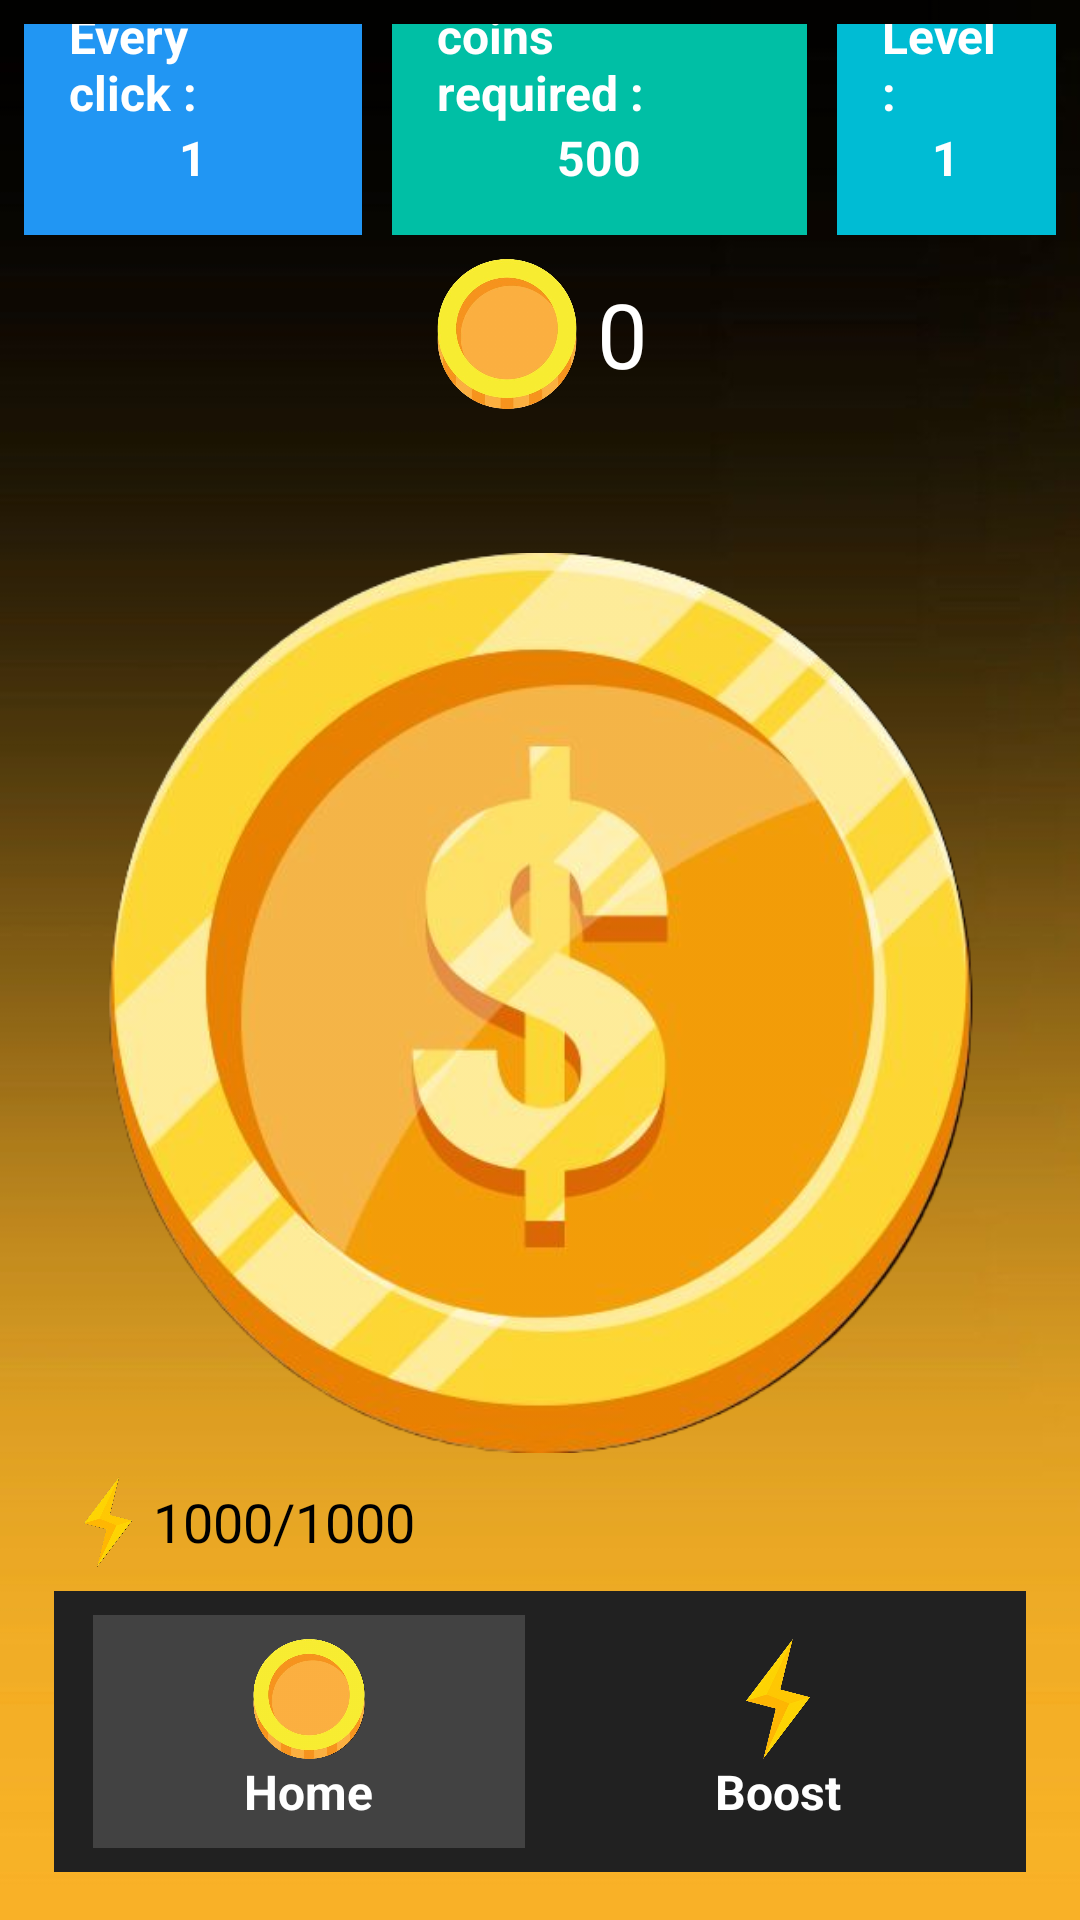

Icons on this 1080 × 1920 Android screen, each with its box as (x1, y1, x2, y2):
energy: (84, 1478, 132, 1567), (746, 1639, 810, 1759)
imagenumbercoin: (437, 259, 577, 409), (253, 1639, 365, 1759)
